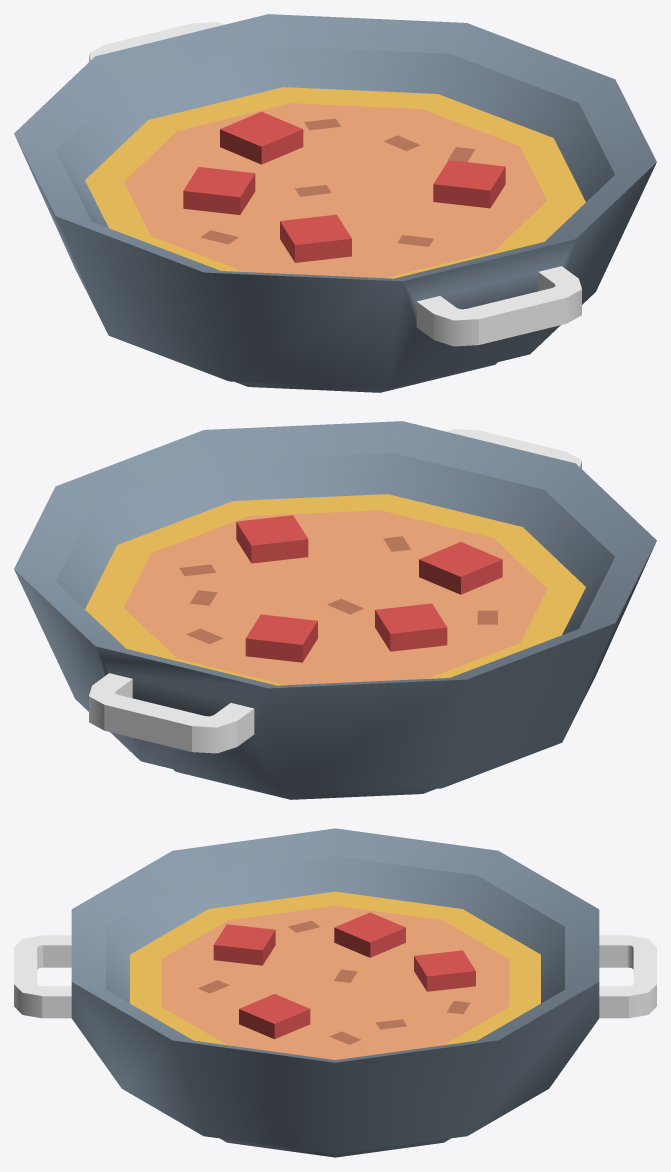
The model's file is panStew.obj.
3 views of the same model, one above another, from view 1: azimuth 30°, elevation 25°; view 2: azimuth 150°, elevation 25°; view 3: azimuth 270°, elevation 25° (orthographic). The views are drawn at different scales.
Parts seen in each view (by area): view 1: panStew; view 2: panStew; view 3: panStew.
Boxes of the visible parts, x1,y1,x2,y2 form: panStew: (14, 14, 656, 392); panStew: (14, 421, 656, 799); panStew: (14, 828, 656, 1157).
Size of the model in its own units: 0.6574 by 0.1753 by 0.7621.
